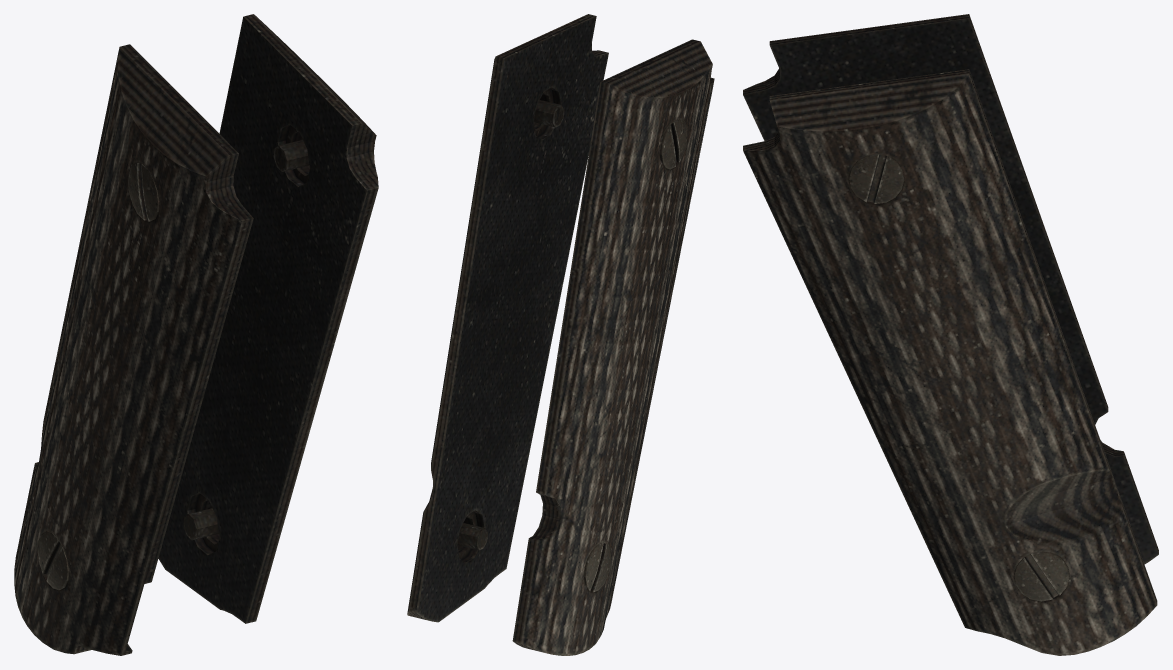
3 renders of one model, left to right at view 1: azimuth 30°, elevation 25°; view 2: azimuth 150°, elevation 25°; view 3: azimuth 270°, elevation 25°, orthographic. The views are drawn at different scales.
Parts seen in each view (by area): view 1: TW_5f3e778efcd9b651187d7201_PZ_Import; view 2: TW_5f3e778efcd9b651187d7201_PZ_Import; view 3: TW_5f3e778efcd9b651187d7201_PZ_Import.
Part boxes in pixels (<box>): TW_5f3e778efcd9b651187d7201_PZ_Import: <box>14,14,378,655</box>; TW_5f3e778efcd9b651187d7201_PZ_Import: <box>407,14,714,655</box>; TW_5f3e778efcd9b651187d7201_PZ_Import: <box>743,14,1158,655</box>.
Bounding box in the file's own units: 0.0191 × 0.0391 × 0.0594.
Materials: 1 (1 with a texture image).
